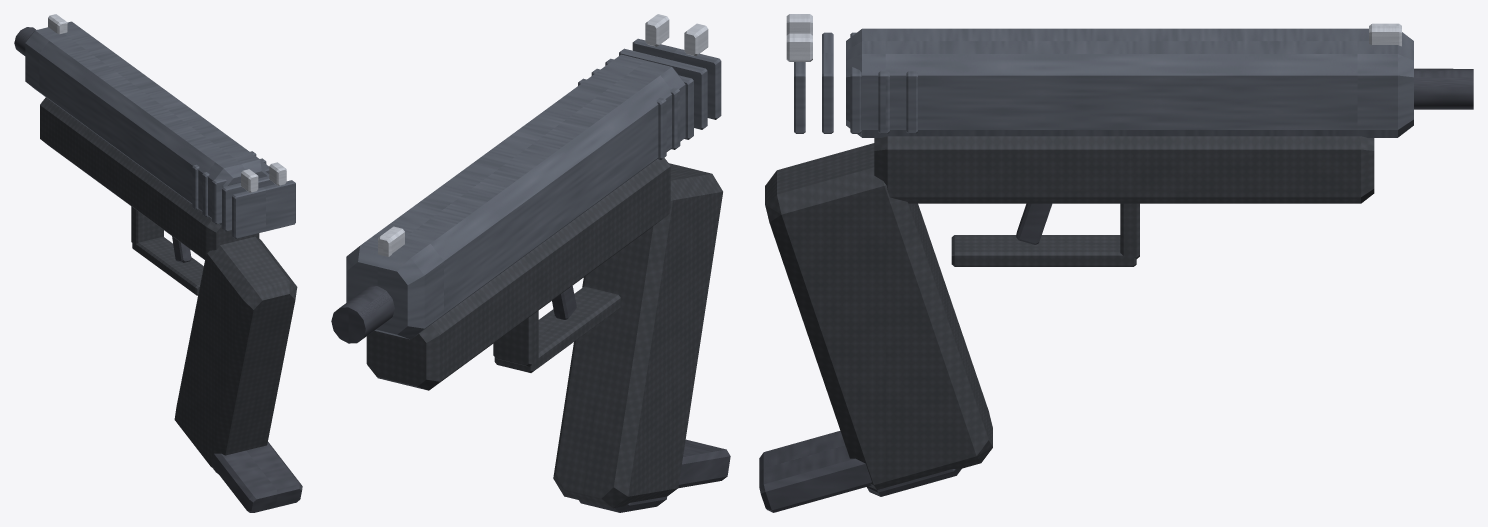
File: weapon_glock.glb
3 renders of one model, left to right at view 1: azimuth 30°, elevation 25°; view 2: azimuth 150°, elevation 25°; view 3: azimuth 270°, elevation 25°, orthographic. The views are drawn at different scales.
Parts seen in each view (by area): view 1: WeaponRoot, Bolt, Magazine; view 2: WeaponRoot, Bolt, Magazine; view 3: WeaponRoot, Bolt, Magazine.
Part boxes in pixels (box(x1,y1,x2,y2)): WeaponRoot: box(14, 27, 297, 469); Bolt: box(25, 14, 295, 238); Magazine: box(211, 442, 302, 512); WeaponRoot: box(331, 158, 722, 508); Bolt: box(346, 14, 721, 339); Magazine: box(579, 439, 730, 512); WeaponRoot: box(765, 68, 1473, 489); Bolt: box(786, 14, 1413, 137); Magazine: box(759, 431, 961, 512).
Size of the model in its own units: 0.0305 by 0.1573 by 0.2162.
Materials: 4 (4 with a texture image).
